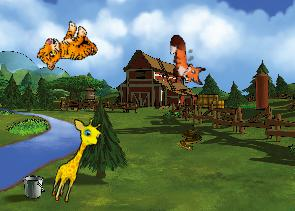fox: (168, 33, 206, 87)
giraffe: (48, 113, 105, 208)
tiger: (33, 14, 102, 84)
